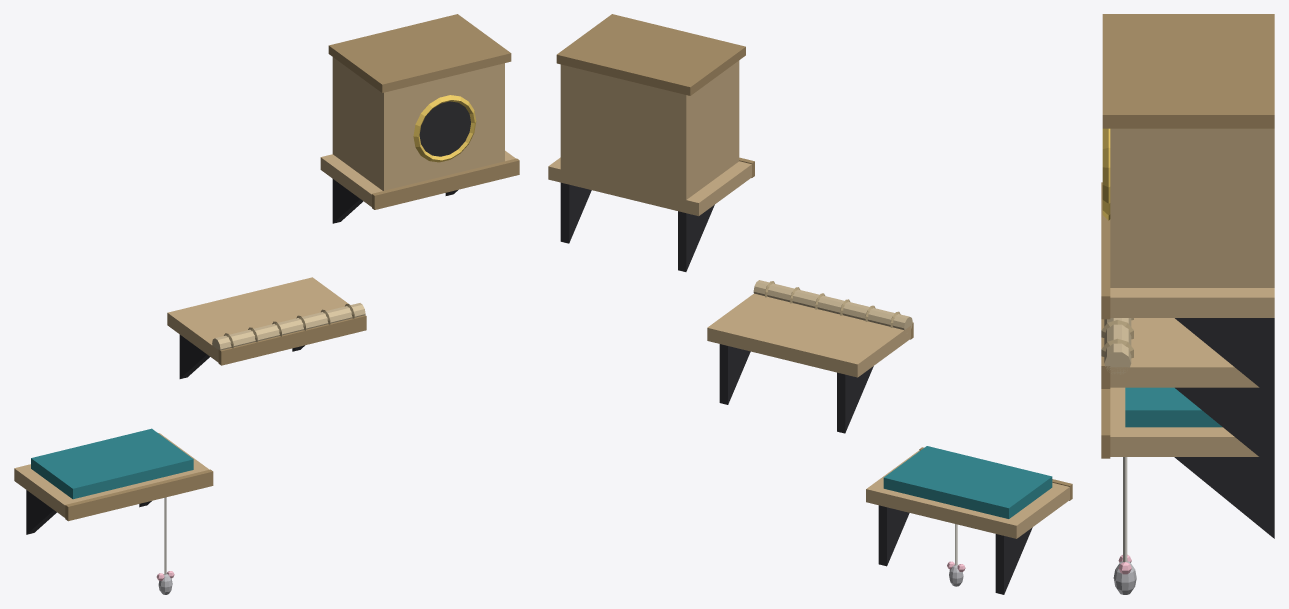
The model's file is cat_wall_steps.glb.
3 views of the same model, side by side, from view 1: azimuth 30°, elevation 25°; view 2: azimuth 150°, elevation 25°; view 3: azimuth 270°, elevation 25° (orthographic). The views are drawn at different scales.
Visible parts, largest first — view 1: cat_wall_steps; view 2: cat_wall_steps; view 3: cat_wall_steps.
Part boxes in pixels (x1=…): cat_wall_steps: x1=14, y1=14, x2=519, y2=594; cat_wall_steps: x1=548, y1=14, x2=1072, y2=594; cat_wall_steps: x1=1101, y1=14, x2=1274, y2=594.
Size of the model in its own units: 1.4 by 1.38 by 0.29.
